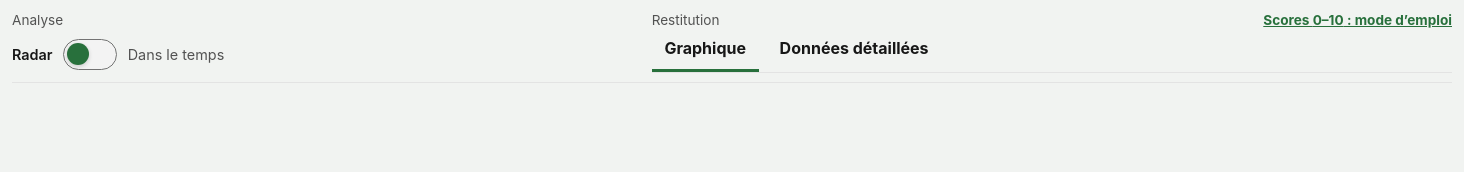
Test: changes the displayed analysis through a controlled, labelled selector in all four combinations
Click the switch named "Analyse". click: (90, 54)
box: [63,39,117,70]
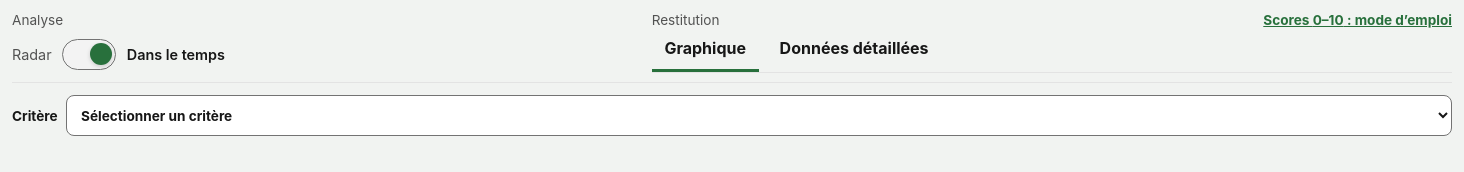
Check: the dropdown labelled "Critère" is shown
Select "1. Collaboration" in the dropdown labelled "Critère". click: (759, 116)
box: [66,95,1452,136]
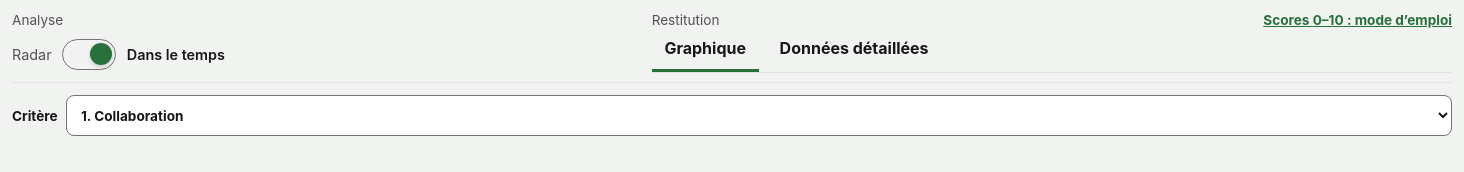
Click the tab "Données détaillées". click: (854, 50)
box: [767,28,941,72]
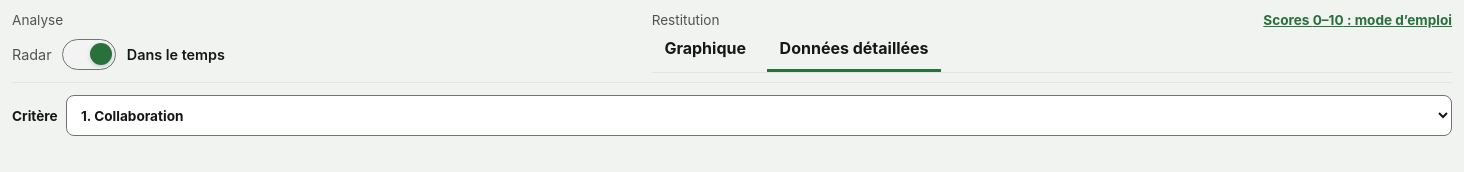
Click the switch named "Analyse". click: (89, 54)
box: [62,39,116,70]
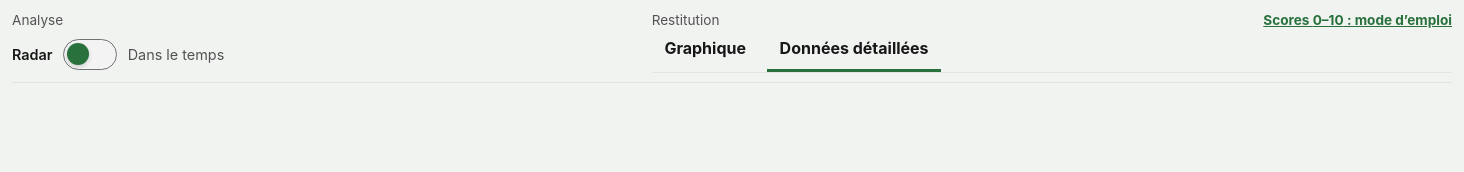
Click the tab "Graphique". click: (705, 50)
box: [652,28,759,72]
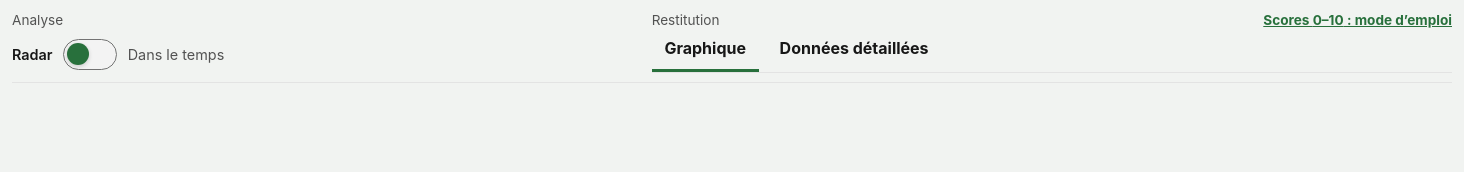
Click the switch named "Analyse". click: (90, 54)
box: [63,39,117,70]
(page scrolled)
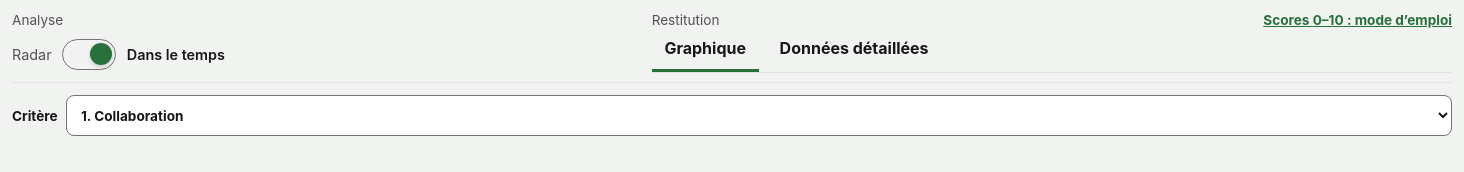
Check: the dropdown labelled "Critère" shows "1. Collaboration", box [66,95,1452,136]
